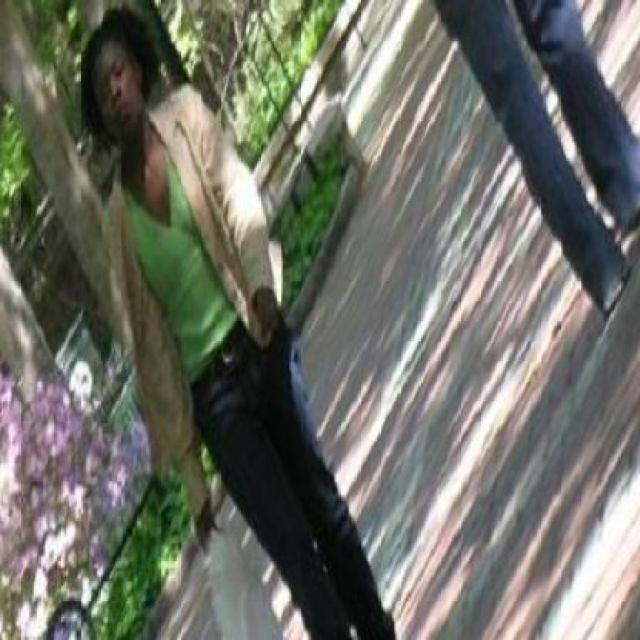Person: (69, 0, 407, 638)
